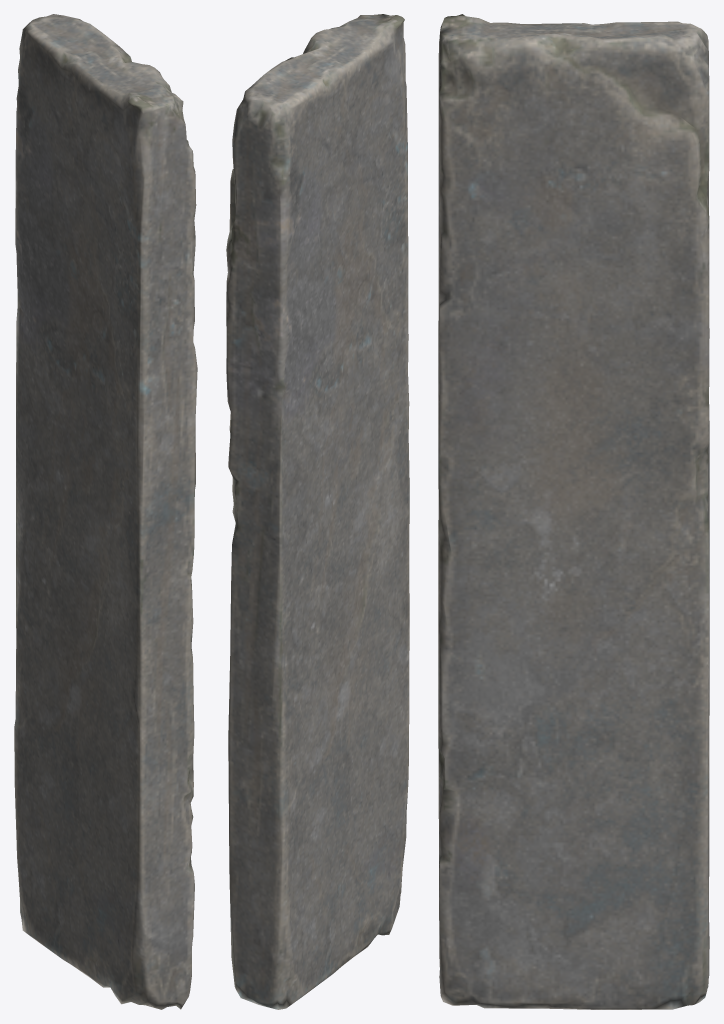
Rendered from SM_SlabA.fbx.
The picture shows the model from 3 angles, left to right: view 1: azimuth 30°, elevation 25°; view 2: azimuth 150°, elevation 25°; view 3: azimuth 270°, elevation 25°; orthographic projection. The views are drawn at different scales.
Parts seen in each view (by area): view 1: SM_SlabA_LOD0; view 2: SM_SlabA_LOD0; view 3: SM_SlabA_LOD0.
Boxes of the visible parts, x1,y1,x2,y2 form: SM_SlabA_LOD0: (14, 14, 197, 1009); SM_SlabA_LOD0: (226, 14, 409, 1009); SM_SlabA_LOD0: (438, 14, 709, 1009).
Size of the model in its own units: 16.23 by 57.28 by 226.
